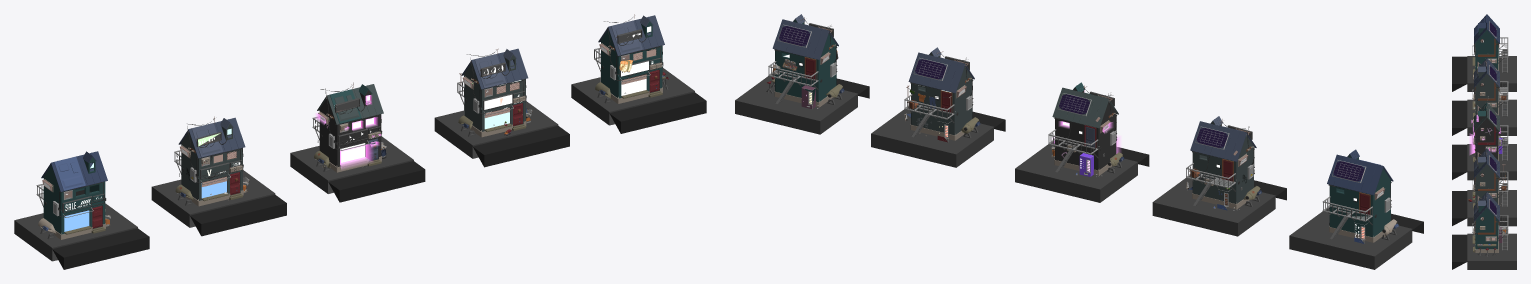
File: cyberpunk_sci_fi_building.glb
The picture shows the model from 3 angles, left to right: view 1: azimuth 30°, elevation 25°; view 2: azimuth 150°, elevation 25°; view 3: azimuth 270°, elevation 25°; orthographic projection. The views are drawn at different scales.
Parts seen in each view (by area): view 1: Object_68, Object_266, Object_515, Object_82, Object_189, Object_12, Object_85, Object_45, Object_35, Object_8, Object_18, Object_21 (+7 smaller); view 2: Object_266, Object_515, Object_8, Object_82, Object_85, Object_189, Object_142, Object_12, Object_68, Object_35, Object_123, Object_10 (+4 smaller); view 3: Object_266, Object_68, Object_515, Object_82, Object_8, Object_12, Object_189, Object_85, Object_35, Object_28, Object_142, Object_45 (+8 smaller).
Part boxes in pixels (left/top/right/bottom): Object_68: left=52, top=92, right=706, bottom=269; Object_266: left=14, top=68, right=694, bottom=261; Object_515: left=181, top=55, right=525, bottom=200; Object_82: left=43, top=21, right=662, bottom=234; Object_189: left=44, top=17, right=663, bottom=216; Object_12: left=37, top=21, right=668, bottom=239; Object_85: left=178, top=15, right=664, bottom=158; Object_45: left=191, top=15, right=653, bottom=161; Object_35: left=38, top=43, right=662, bottom=239; Object_8: left=36, top=21, right=659, bottom=227; Object_18: left=64, top=65, right=665, bottom=234; Object_21: left=42, top=14, right=656, bottom=199; Object_266: left=735, top=74, right=1412, bottom=269; Object_515: left=911, top=53, right=1253, bottom=203; Object_8: left=768, top=24, right=1397, bottom=243; Object_82: left=775, top=19, right=1390, bottom=237; Object_85: left=772, top=19, right=1256, bottom=161; Object_189: left=774, top=19, right=1391, bottom=232; Object_142: left=779, top=26, right=1364, bottom=181; Object_12: left=766, top=23, right=1396, bottom=240; Object_68: left=799, top=62, right=1423, bottom=233; Object_35: left=773, top=44, right=1396, bottom=242; Object_123: left=839, top=88, right=1397, bottom=227; Object_10: left=767, top=58, right=1369, bottom=214; Object_266: left=1467, top=56, right=1516, bottom=269; Object_68: left=1452, top=56, right=1467, bottom=269; Object_515: left=1474, top=72, right=1499, bottom=204; Object_82: left=1474, top=28, right=1498, bottom=249; Object_8: left=1472, top=21, right=1508, bottom=250; Object_12: left=1473, top=38, right=1507, bottom=256; Object_189: left=1468, top=39, right=1502, bottom=234; Object_85: left=1474, top=58, right=1499, bottom=221; Object_35: left=1472, top=57, right=1505, bottom=252; Object_28: left=1474, top=38, right=1506, bottom=240; Object_142: left=1489, top=22, right=1496, bottom=214; Object_45: left=1474, top=59, right=1486, bottom=213.
Size of the model in its own units: 52.71 by 7.17 by 7.03.
55 materials, 11 textured.
